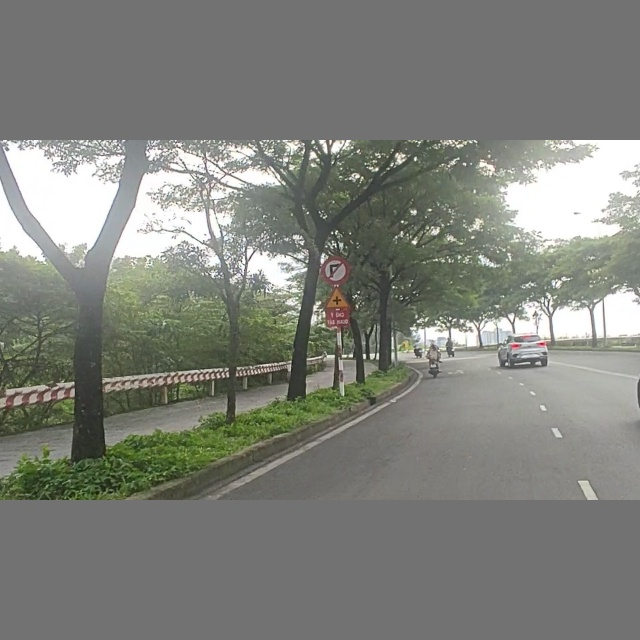P.123a: (318, 255, 350, 286)
W.205a: (321, 285, 354, 309)
